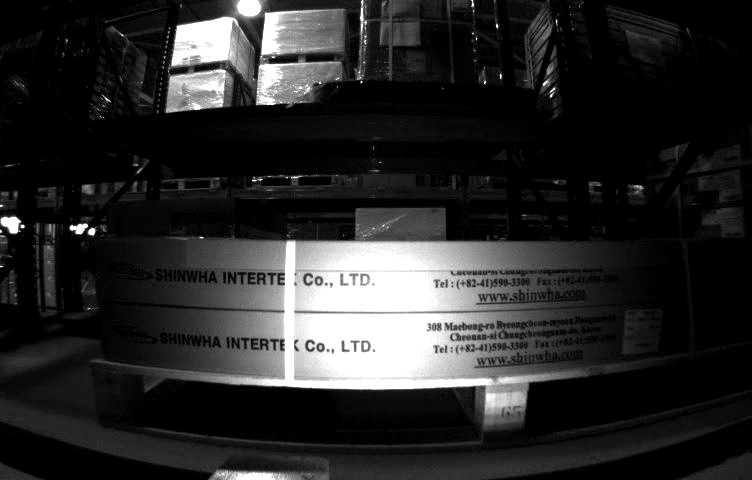True Barcode: (623, 307, 661, 354)
